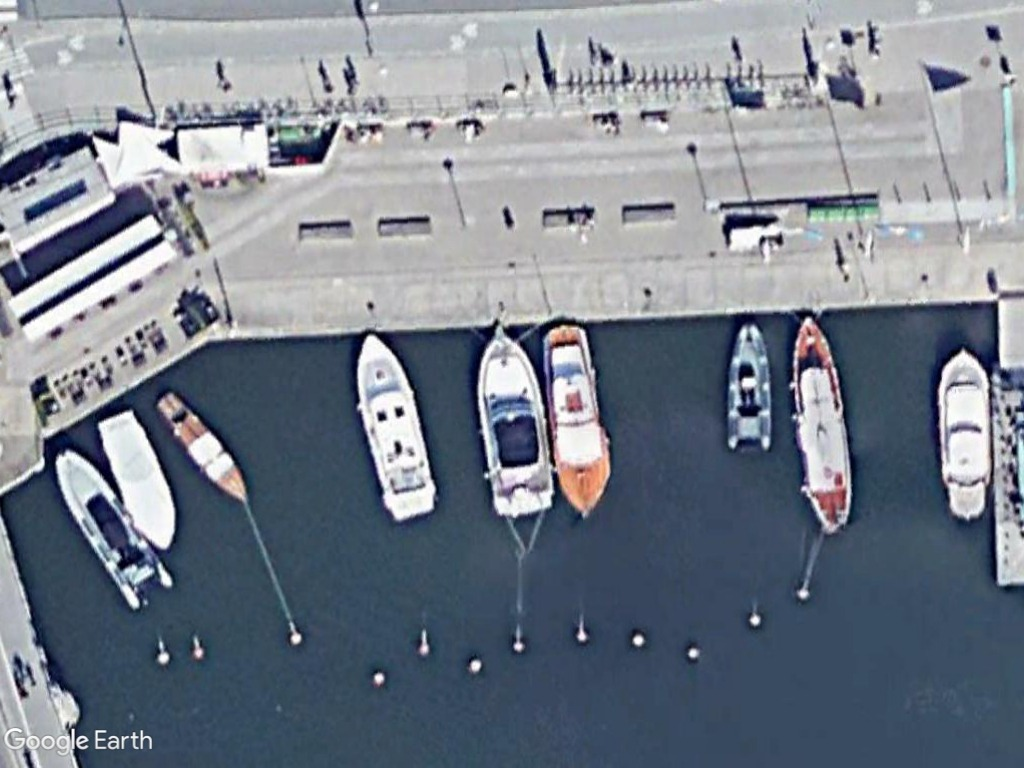boat: (51, 444, 176, 611), (463, 320, 560, 524), (349, 325, 443, 524), (783, 308, 859, 538), (536, 315, 618, 522), (93, 406, 186, 557), (150, 388, 259, 510), (932, 338, 993, 527), (719, 315, 774, 458)
